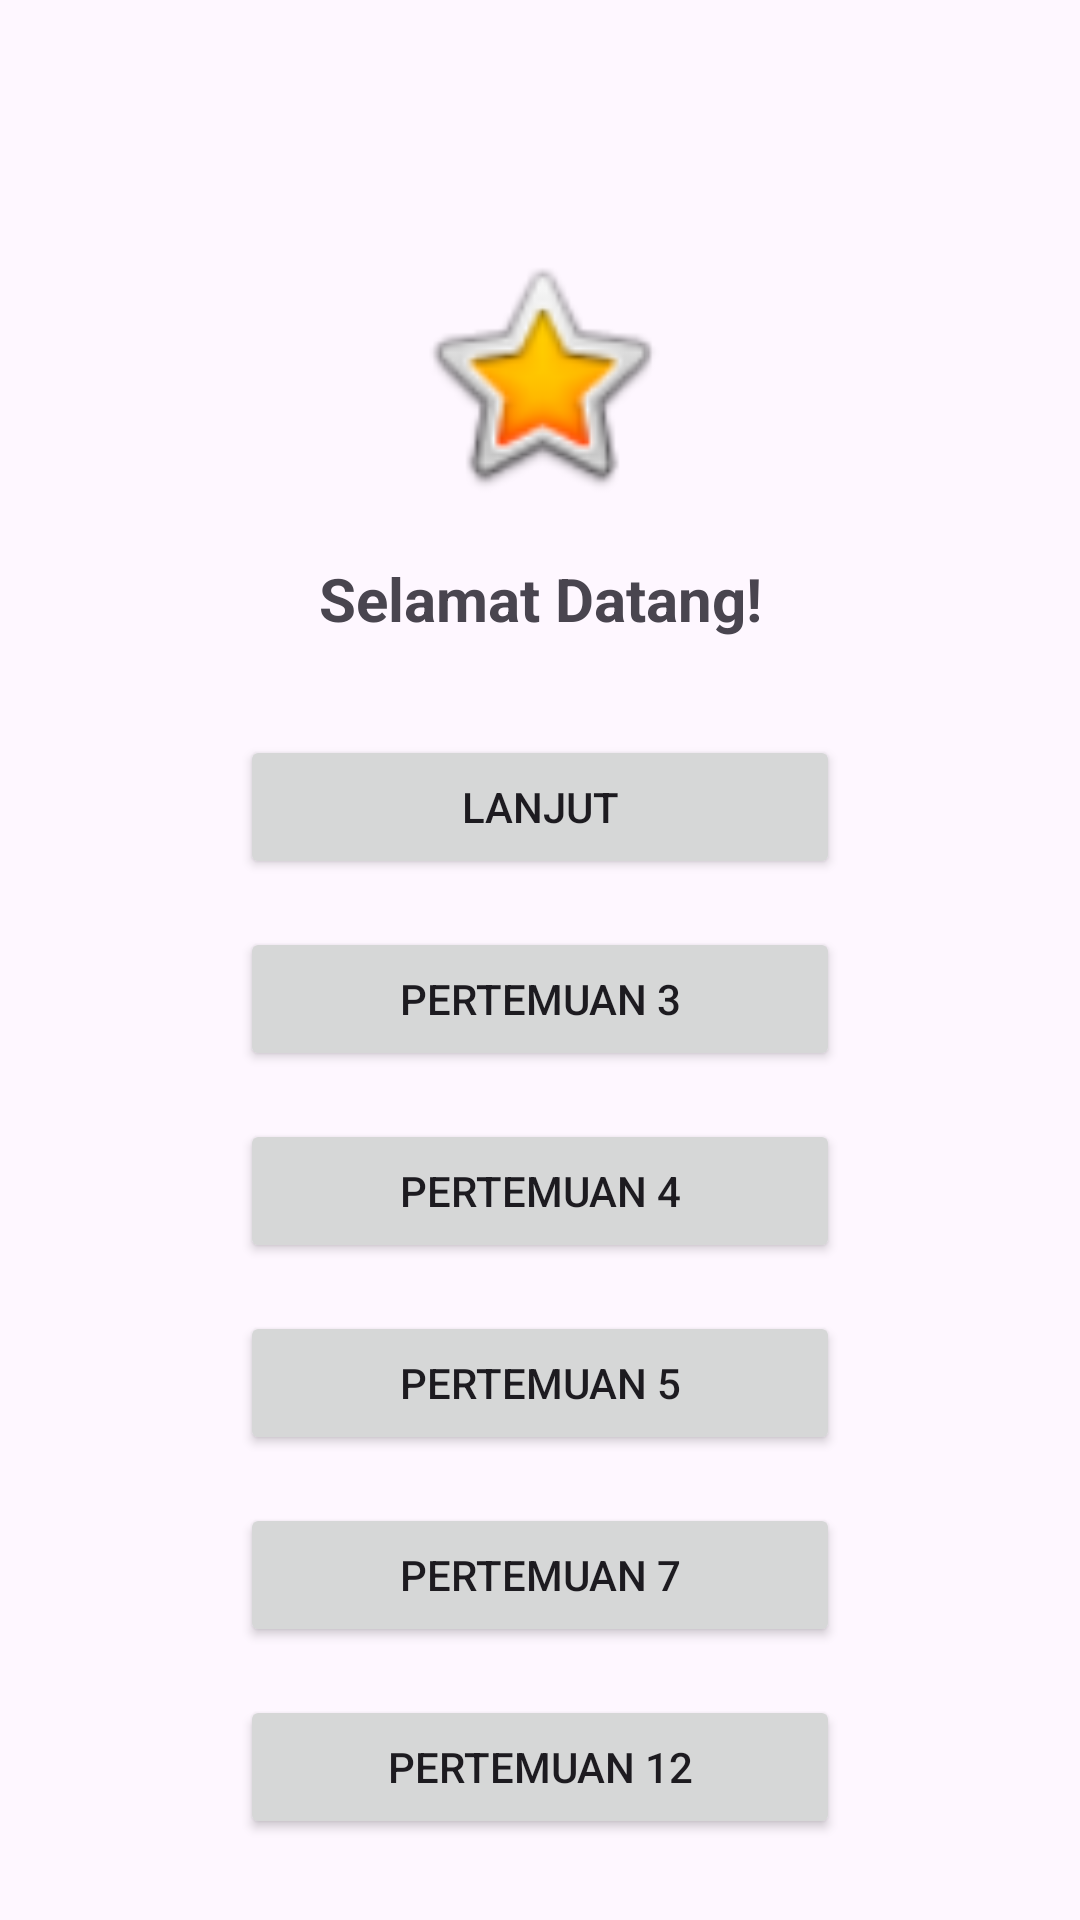

Named icons in this screenshot (1080*1920) and their centers, point (x, y):
star on: point (543, 377)
